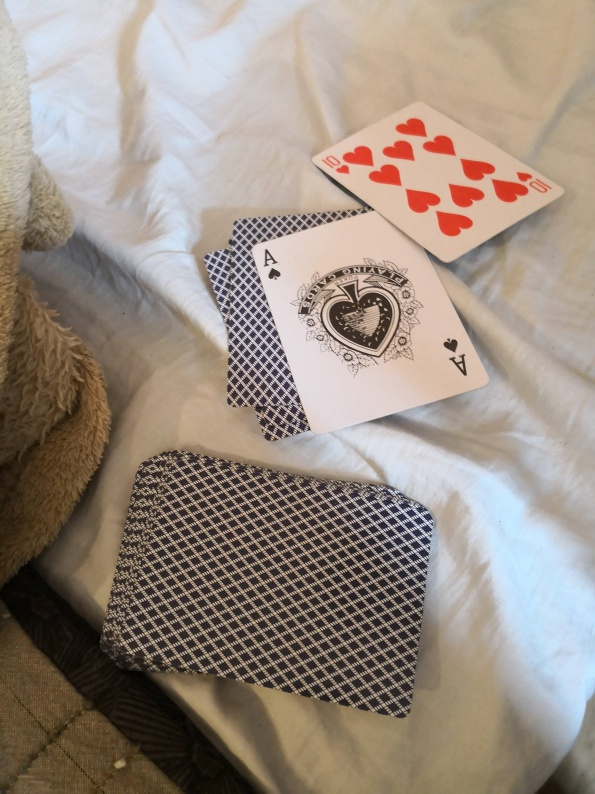10: (311, 100, 565, 263)
ace: (250, 210, 490, 434)
